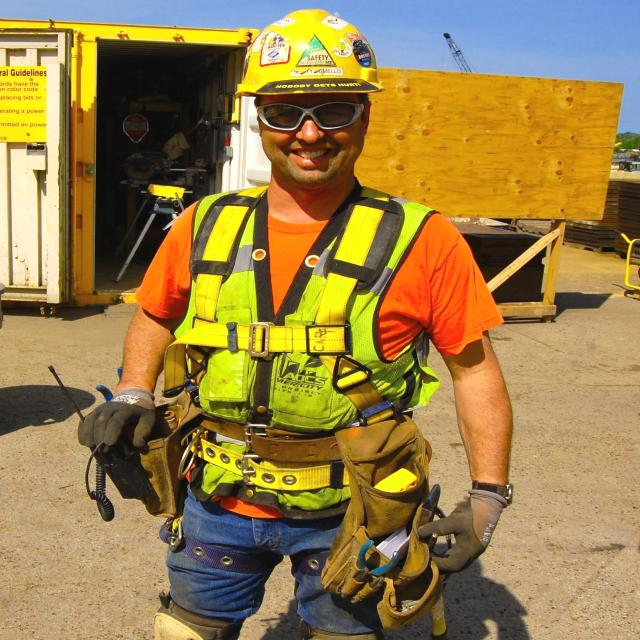face_nomask: (237, 88, 370, 186)
glasses: (250, 99, 364, 135)
hand_glove: (421, 470, 529, 575), (64, 369, 172, 449)
head_helmet: (232, 12, 391, 96)
person: (138, 0, 439, 621)
